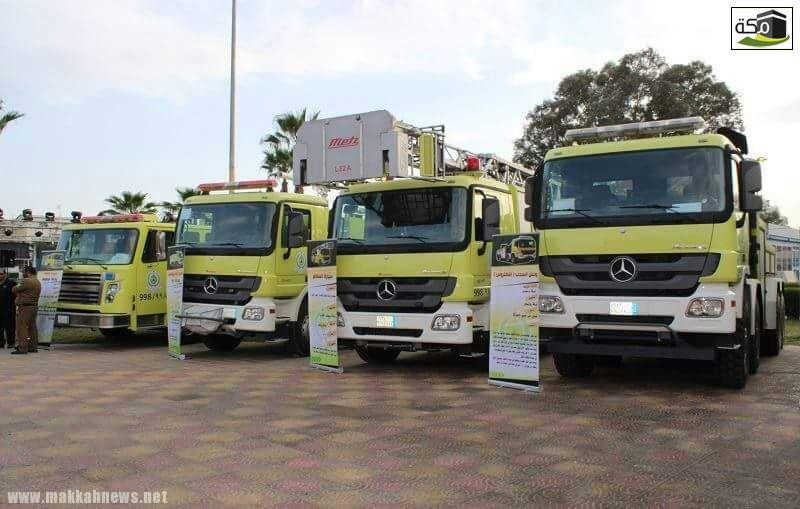firetruck_off: (522, 118, 785, 395), (336, 171, 525, 366), (171, 177, 324, 354), (46, 212, 168, 344)
